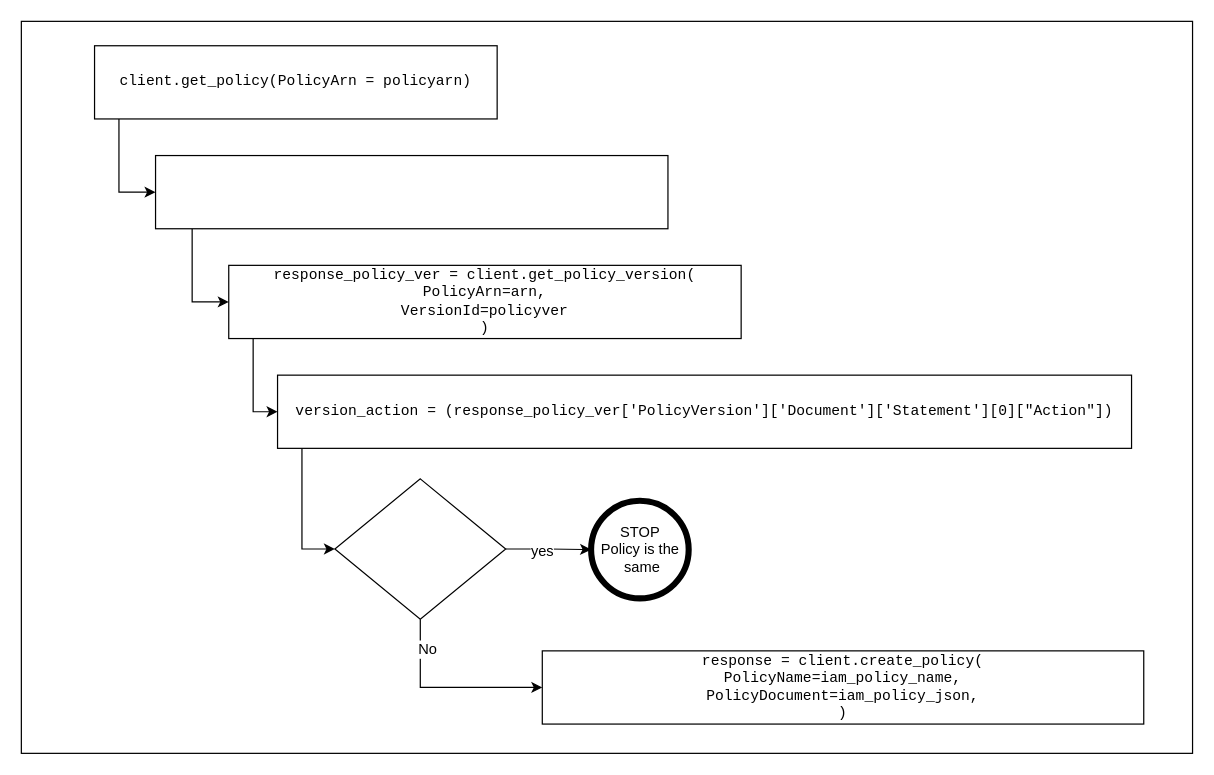
This 1214x775 diagram has some shape labels left out. The centre of each missing label's shape, as x and y in pixels:
"policyver = (response[ 'Policy' ][ 'DefaultVersionId' ])" belongs at [411,191].
"Same as services from Access Advisor?" belongs at [420,548].
